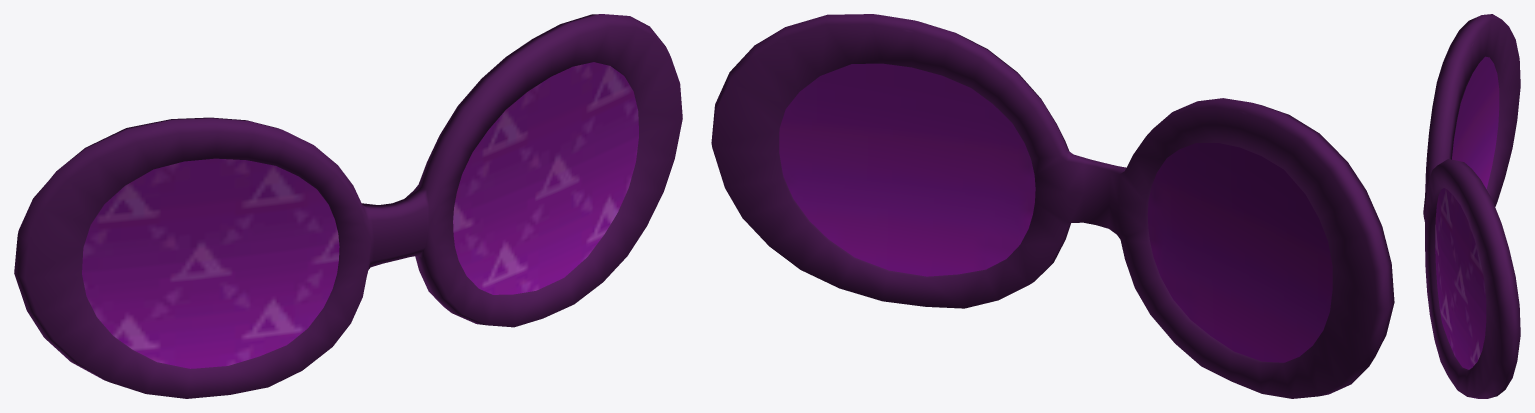
The model's file is AccessoryGlassKate0.glb.
3 views of the same model, side by side, from view 1: azimuth 30°, elevation 25°; view 2: azimuth 150°, elevation 25°; view 3: azimuth 270°, elevation 25° (orthographic). The views are drawn at different scales.
Visible parts, largest first — view 1: Accessory__mAccessory; view 2: Accessory__mAccessory; view 3: Accessory__mAccessory.
Boxes of the visible parts, x1=… form: Accessory__mAccessory: x1=14, y1=14, x2=682, y2=398; Accessory__mAccessory: x1=711, y1=14, x2=1394, y2=398; Accessory__mAccessory: x1=1423, y1=14, x2=1520, y2=398.
Bounding box in the file's own units: 6.41 × 2.57 × 1.04.
Materials: 1 (1 with a texture image).
